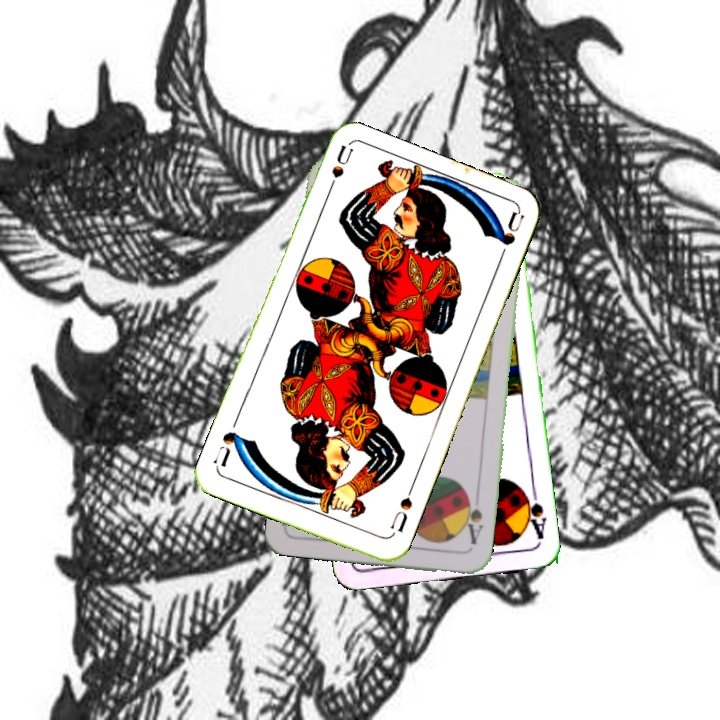SA: (518, 484, 549, 542), (459, 491, 486, 547)
SU: (321, 143, 355, 201), (386, 482, 416, 535)
